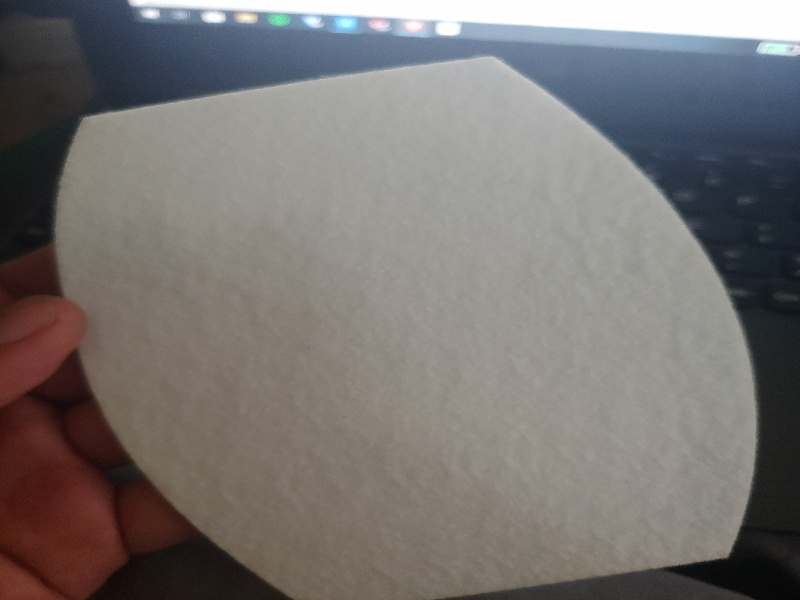Filter: (56, 54, 759, 600)
